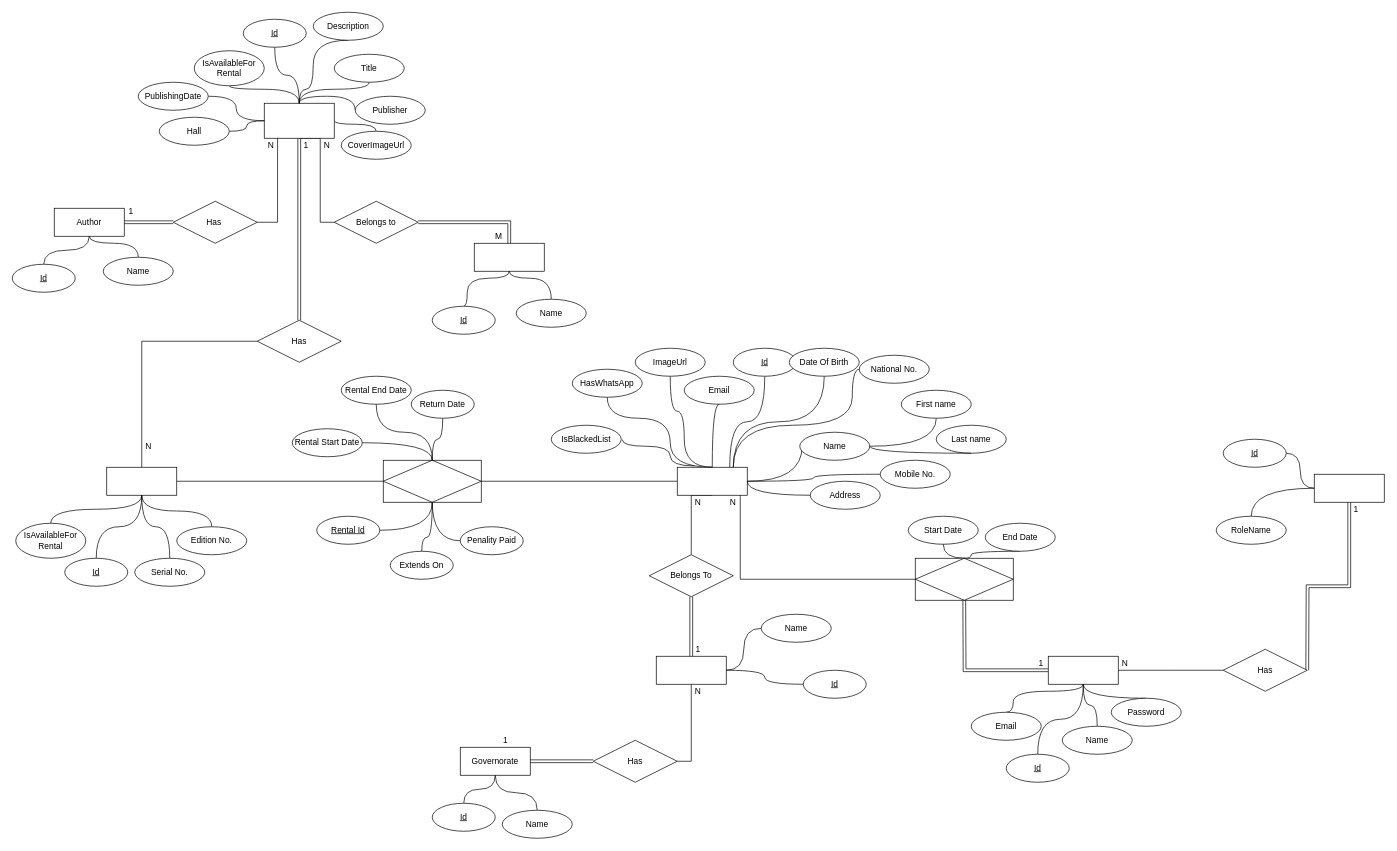
The diagram is 1397 pixels wide and 851 high, and some of its shapes have lost their labels. The box of each missing label's shape, as (x1, y1, x2, y2) in pixels:
Area: (656, 656, 726, 684)
Book: (264, 103, 334, 138)
Book Copy: (106, 467, 177, 495)
Category: (474, 243, 544, 271)
Rent: (383, 460, 481, 502)
Role: (1314, 474, 1384, 502)
Subscriber: (677, 467, 747, 495)
Subscribtion: (915, 558, 1013, 600)
User: (1048, 656, 1118, 684)
